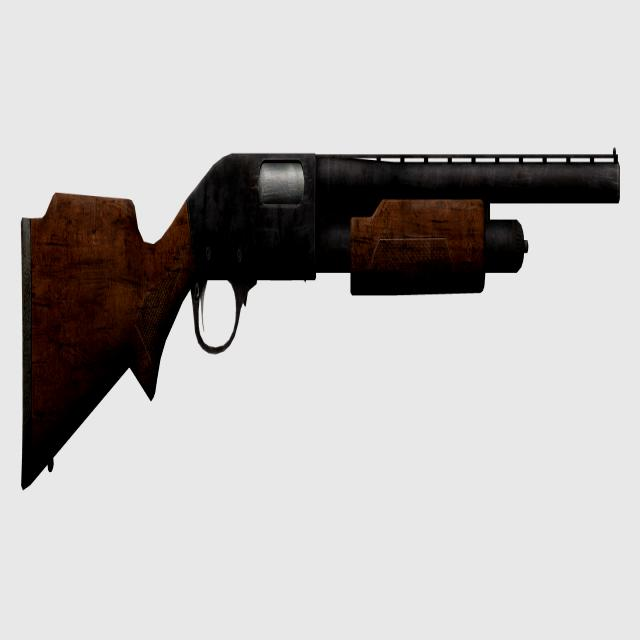long weapon: (9, 88, 631, 544)
